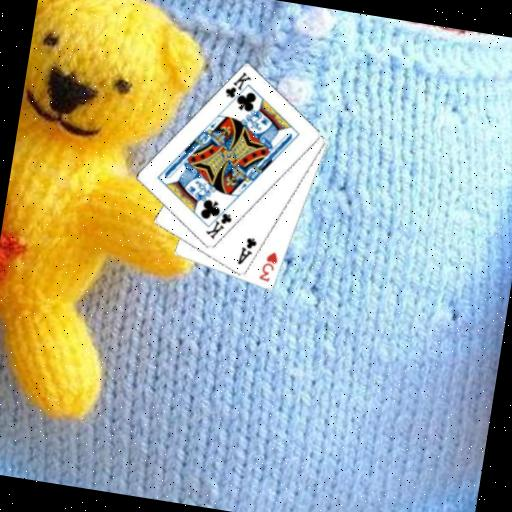3H: (255, 247, 280, 285)
AC: (234, 233, 260, 268)
KC: (220, 67, 254, 109), (202, 201, 235, 243)
